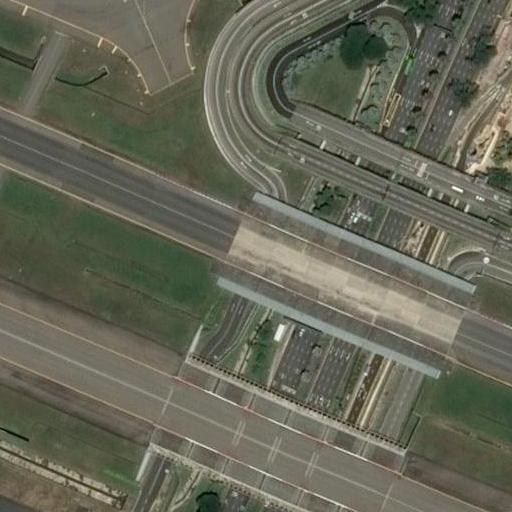Aircraft: (438, 501, 512, 512)
